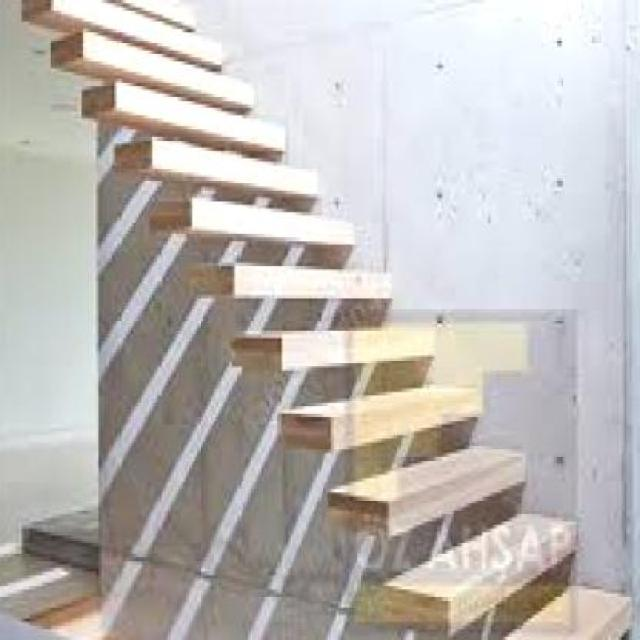stair: (16, 0, 638, 637)
